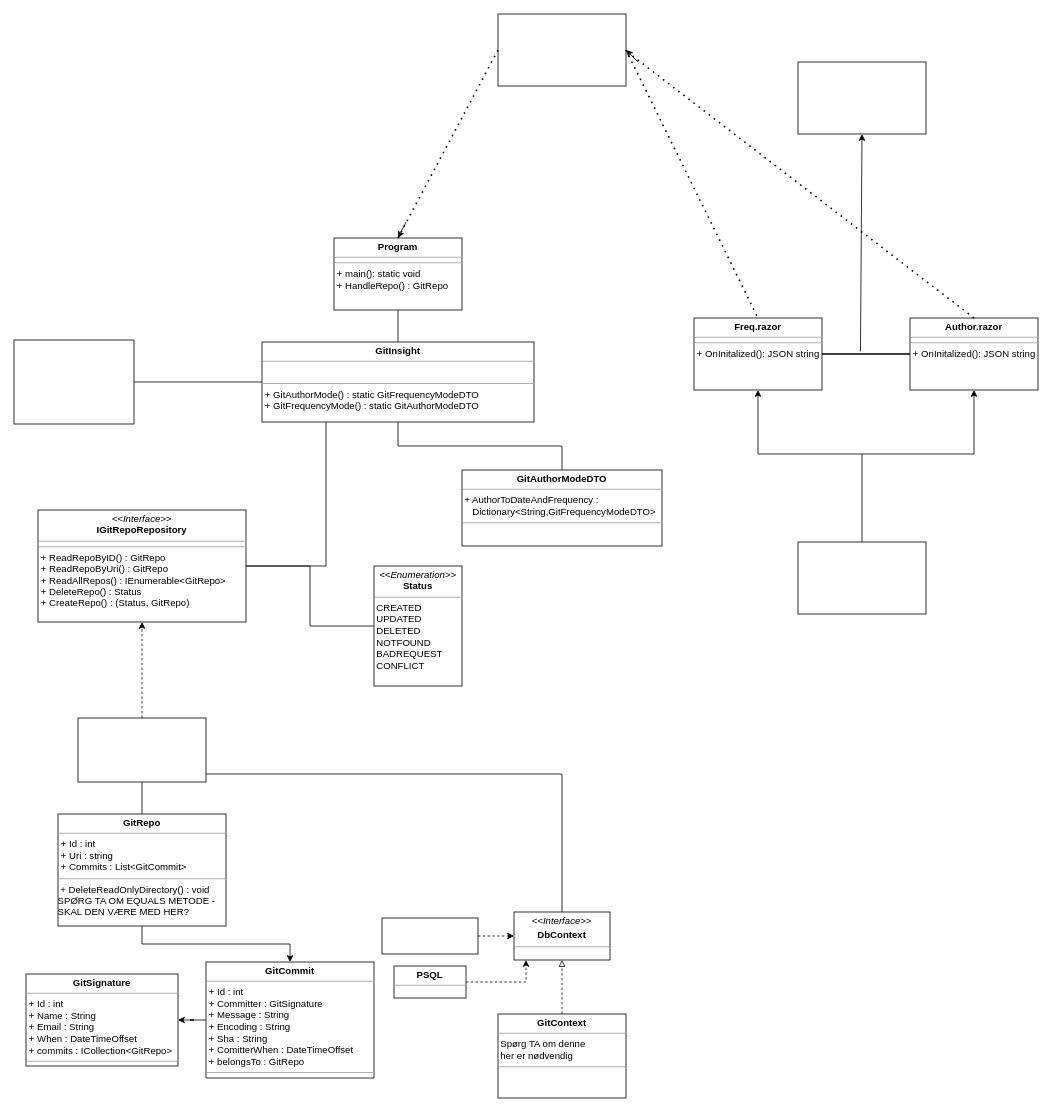
Some shapes in this 1052 by 1112 pixel diagram are drawn without their labels. Here are the shapes that lost their labels. From the top down, the centre of each, then its label:
[561,49]: API + MapGet(): JSON
[861,97]: WebAssembly + FreqMode(): display + AuthorMode(): display
[73,381]: GitFrequencyModeDTO + DateToFrequency : Dictionary<String,int>
[861,577]: Program + main(): webapp.build
[141,749]: GitRepoRepository - _context : DbContext
[429,935]: SQLite
